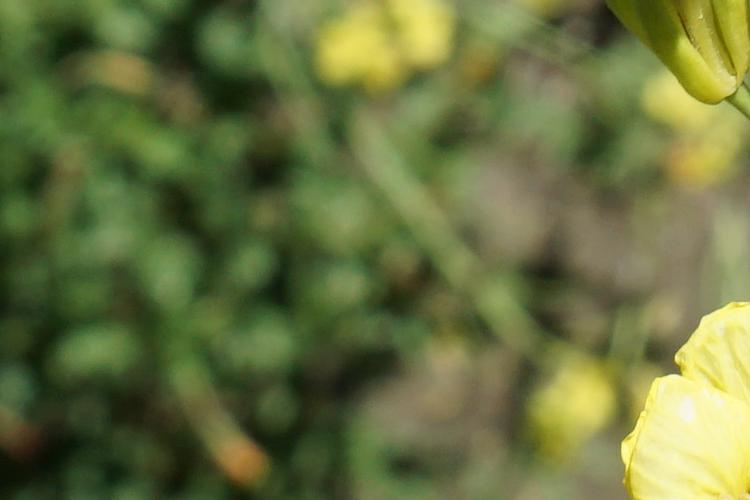yellow: (621, 288, 748, 500)
